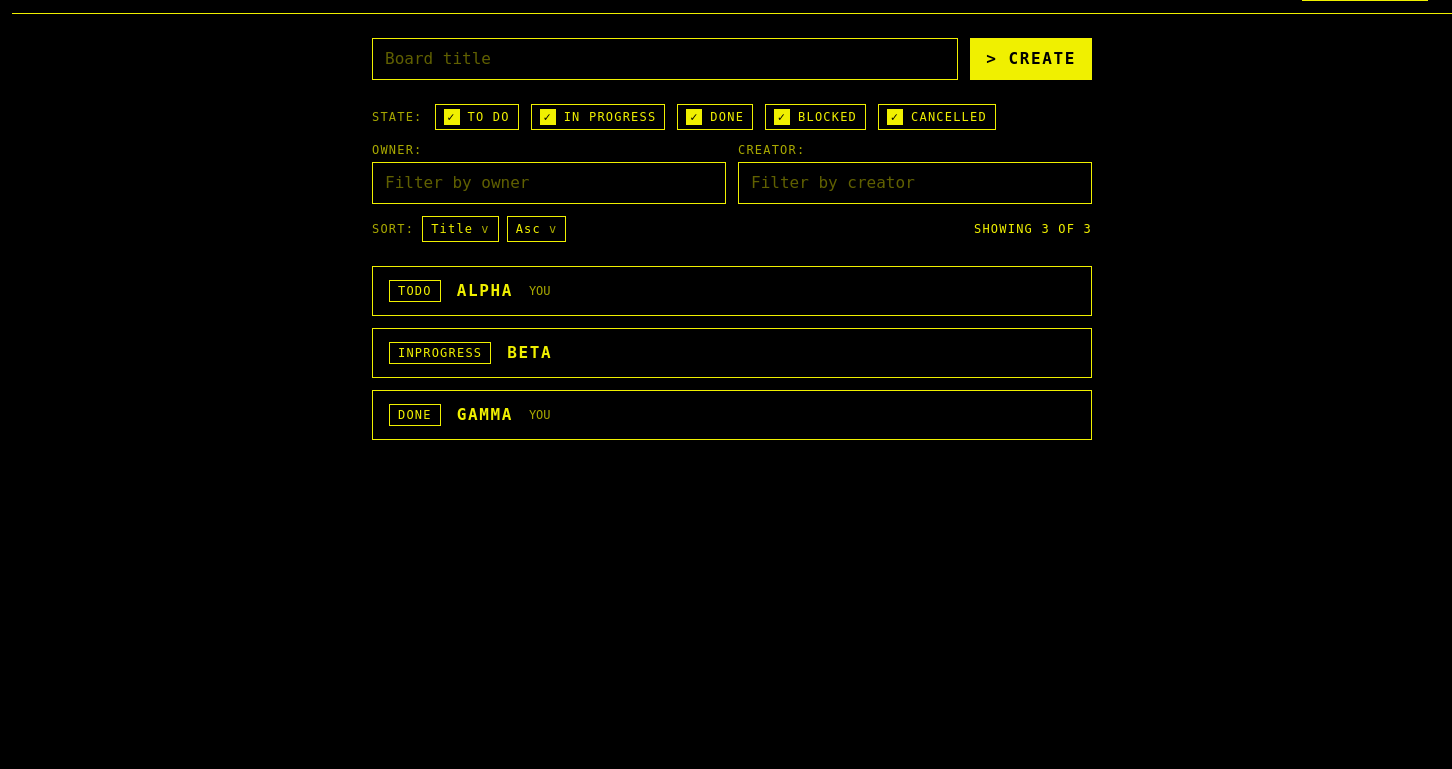
Test: BoardsPage › filtering and sorting › filters boards by state
Click the checkbox labelled "✓ DONE": (715, 117) 677,104 -> 753,130
(page scrolled)
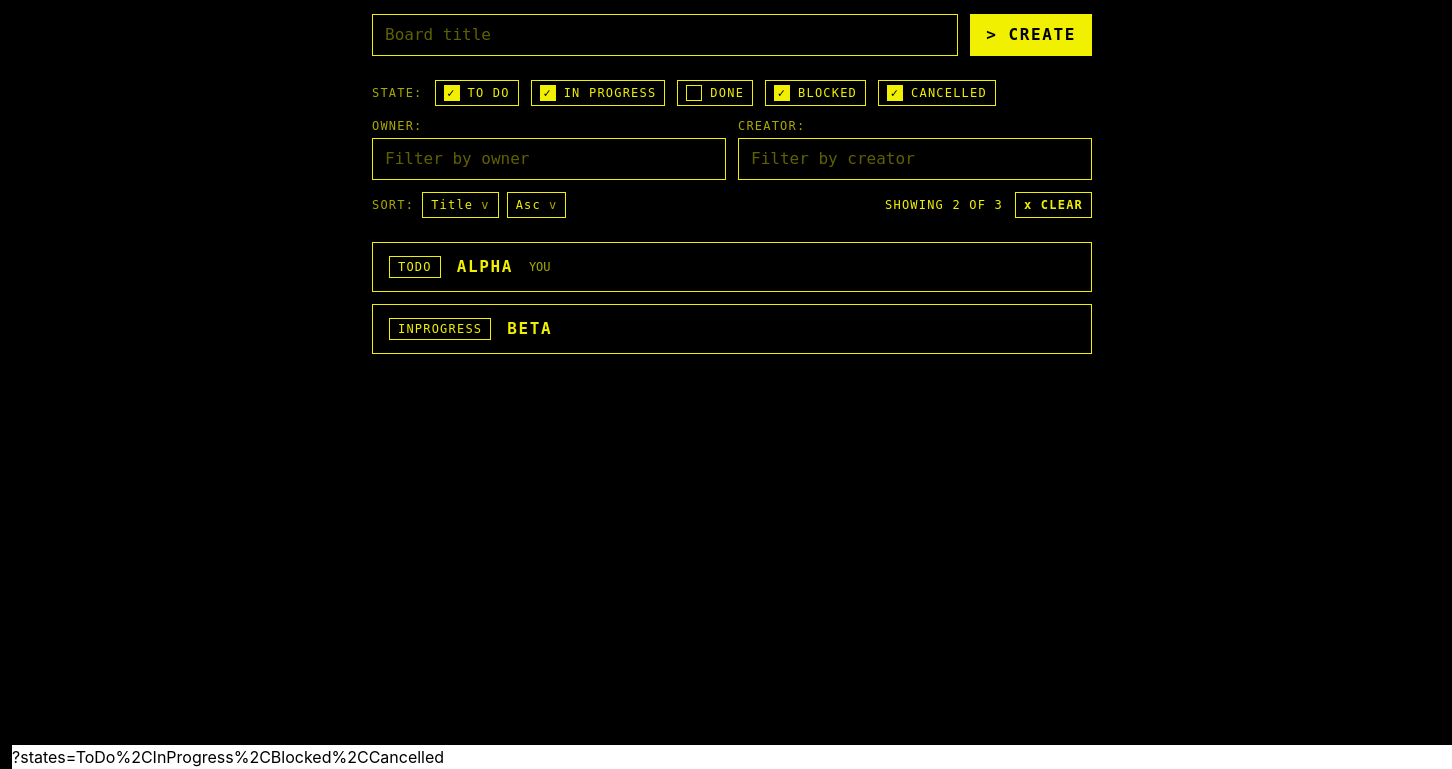
Expected: the text "GAMMA" is gone
Expected: the text with test id "boards-count" reads "SHOWING 2 OF 3", 885,197 -> 1003,213
Expected: the text with test id "location-search" shows "states=", 12,747 -> 444,767
